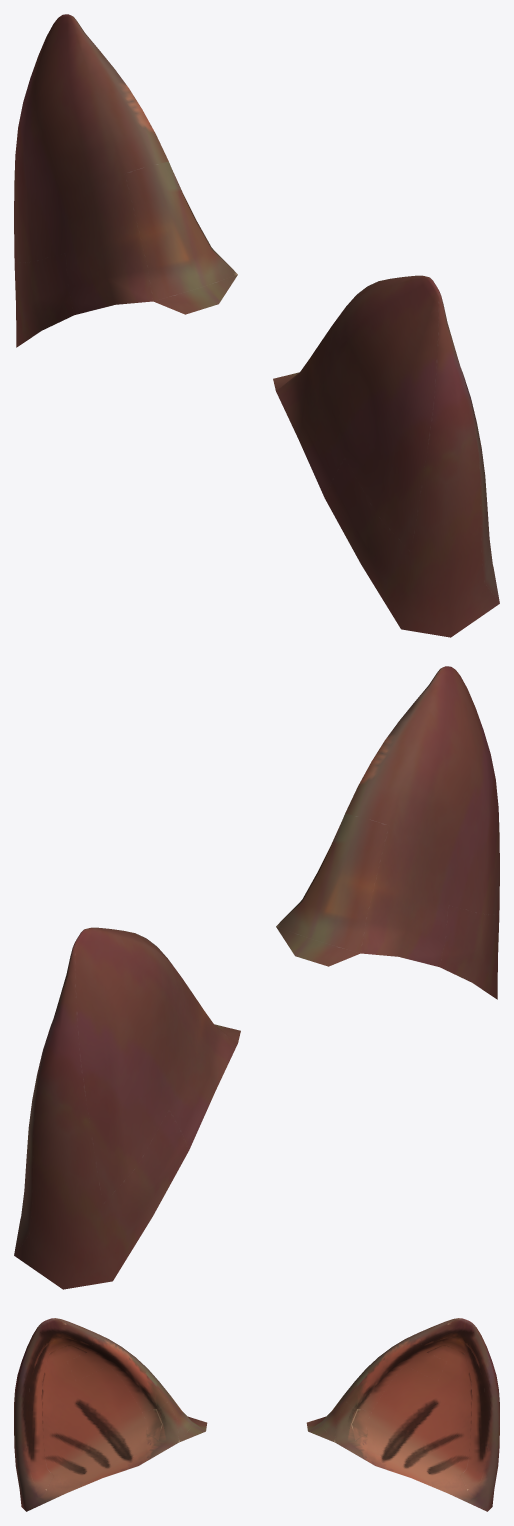
Rendered from catEars.fbx.
3 renders of one model, top to bottom at view 1: azimuth 30°, elevation 25°; view 2: azimuth 150°, elevation 25°; view 3: azimuth 270°, elevation 25°, orthographic. The views are drawn at different scales.
Visible parts, largest first — view 1: catEars; view 2: catEars; view 3: catEars.
Part boxes in pixels (x1,y1,x2,y2): catEars: [14, 14, 499, 637]; catEars: [14, 666, 499, 1289]; catEars: [14, 1318, 499, 1511].
Size of the model in its own units: 0.0795 by 0.4422 by 0.1918.
Materials: 1 (1 with a texture image).
